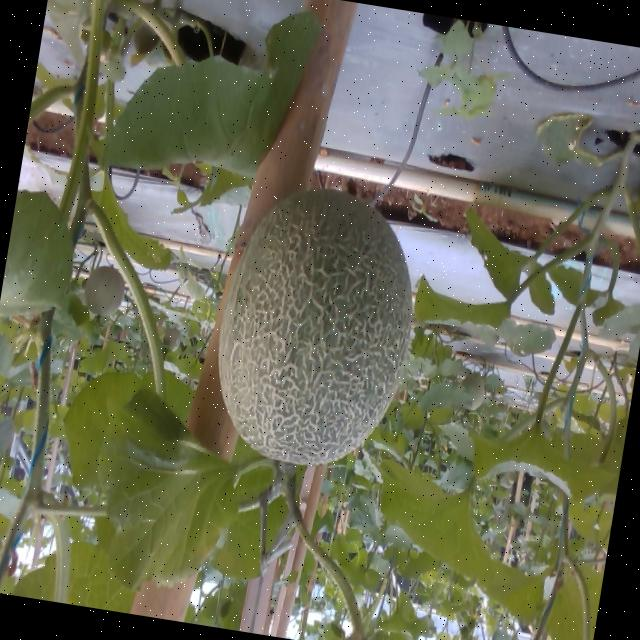melon: (217, 188, 411, 464)
